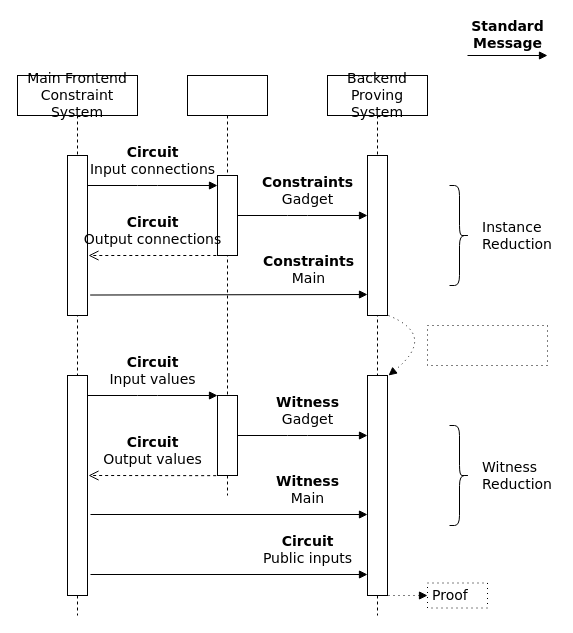
Image size: 573x633. Some labels were removed from this diagram. The shapes that lost their labels are listed below. From the top down, each one's box as (x1, y1, x2, y2) in pixels, then its label:
(186, 74, 268, 496): Gadget
(426, 324, 548, 366): Prover and Verifier Parameters
